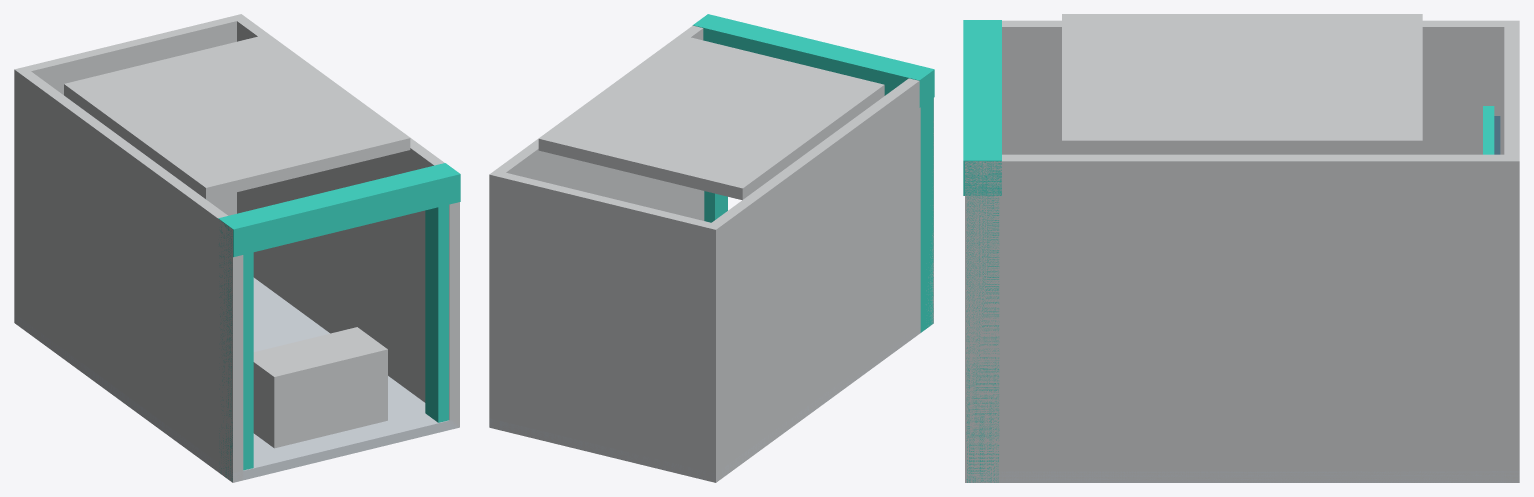
3 renders of one model, left to right at view 1: azimuth 30°, elevation 25°; view 2: azimuth 150°, elevation 25°; view 3: azimuth 270°, elevation 25°, orthographic. The views are drawn at different scales.
Visible parts, largest first — view 1: Exhibition Booth Concept; view 2: Exhibition Booth Concept; view 3: Exhibition Booth Concept.
Part boxes in pixels (x1,y1,x2,y2): Exhibition Booth Concept: (14,14,460,482); Exhibition Booth Concept: (489,14,934,482); Exhibition Booth Concept: (963,14,1519,482).
Bounding box in the file's own units: 3 × 3.34 × 5.02.
